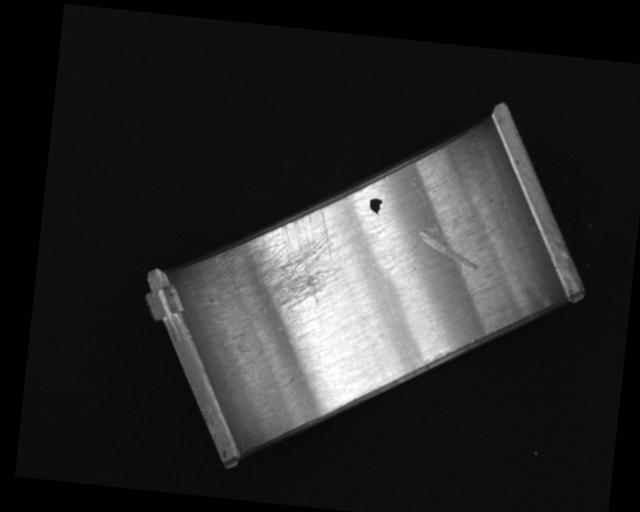blot: (367, 196, 382, 216)
nick: (415, 221, 482, 270), (400, 178, 432, 257)
scratch: (220, 196, 349, 316)
